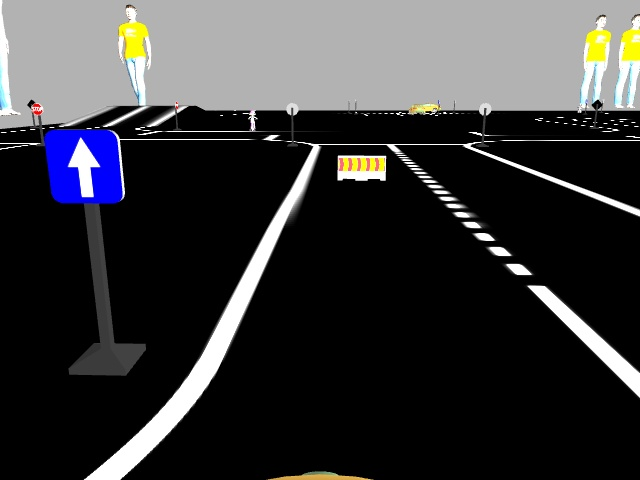ClosedRoadStand: (338, 155, 385, 180)
OneWay: (51, 132, 117, 202)
